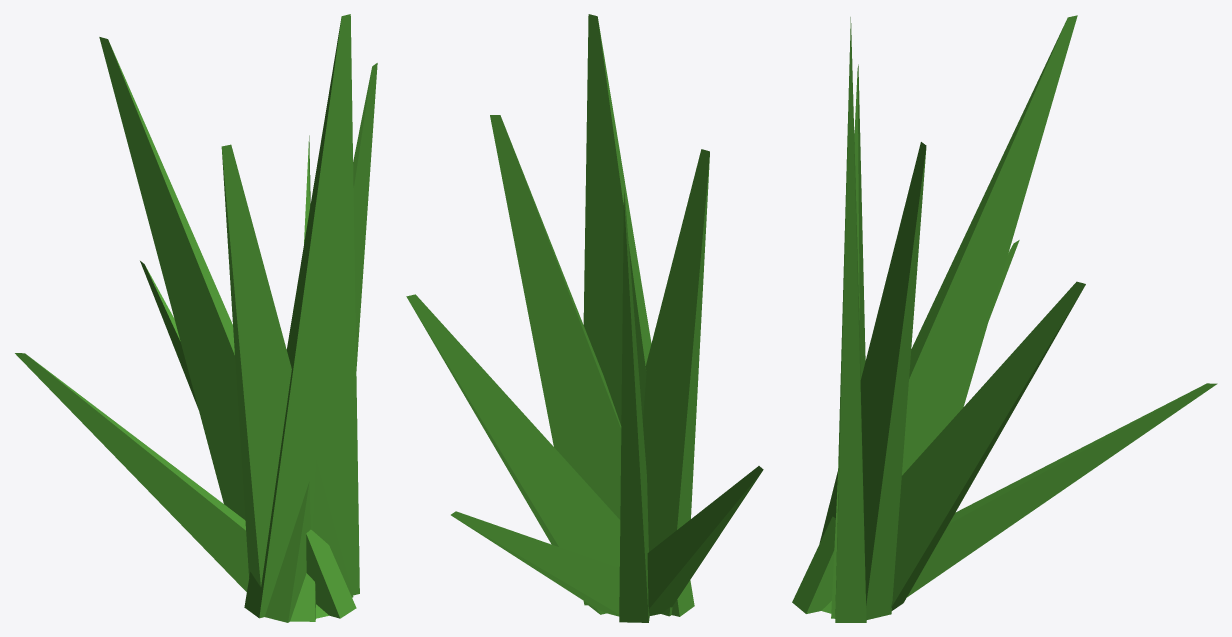
Rendered from grass_tall.fbx.
3 views of the same model, side by side, from view 1: azimuth 30°, elevation 25°; view 2: azimuth 150°, elevation 25°; view 3: azimuth 270°, elevation 25° (orthographic). The views are drawn at different scales.
Visible parts, largest first — view 1: GrassTall; view 2: GrassTall; view 3: GrassTall.
Part boxes in pixels (x1,y1,x2,y2): GrassTall: [15, 14, 377, 622]; GrassTall: [406, 14, 763, 622]; GrassTall: [792, 15, 1217, 622].
Bounding box in the file's own units: 0.3544 × 0.5961 × 0.3813.
